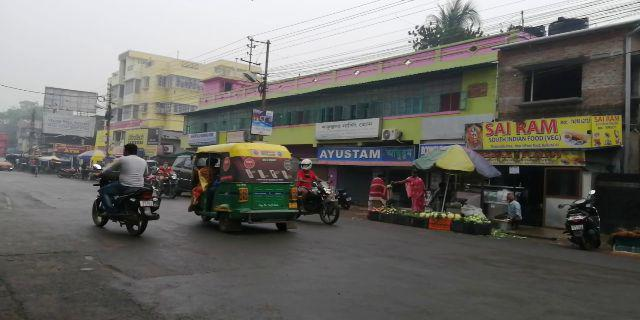Autorickshaw: (191, 143, 300, 232)
Motorbike: (88, 143, 157, 239), (294, 158, 340, 227)
